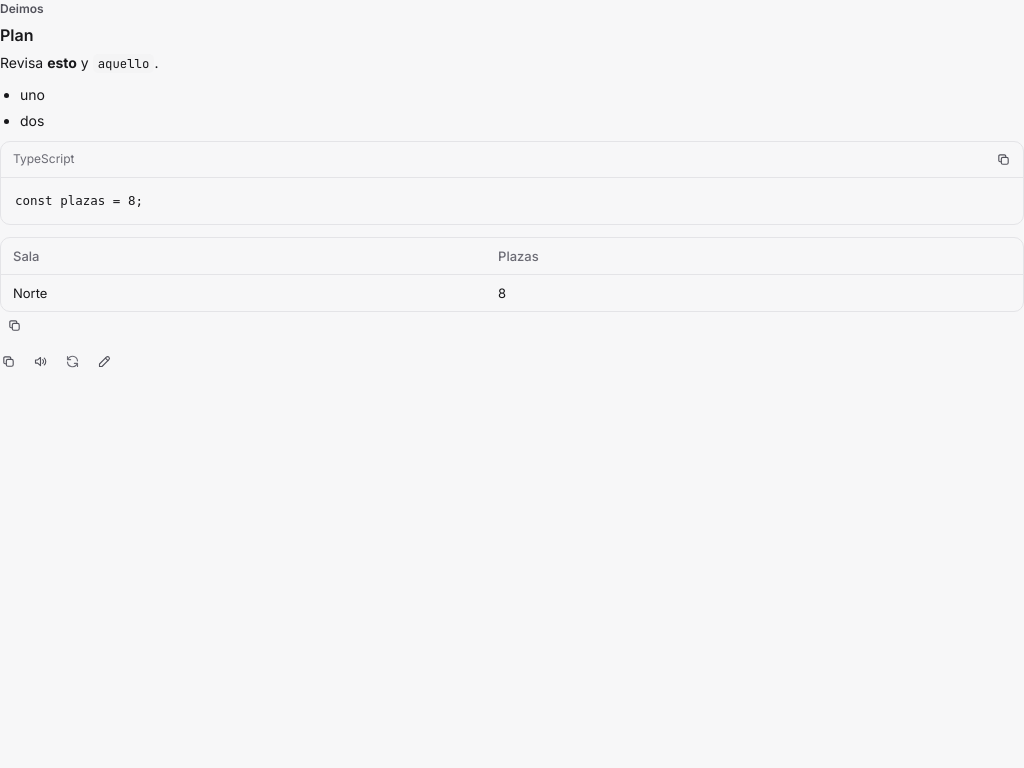
Test: the answer in the editor › is one editor holding its Markdown as it came, and copies what is written
Click the button named "Editar y copiar". click: (104, 362)
box: [90, 348, 118, 376]
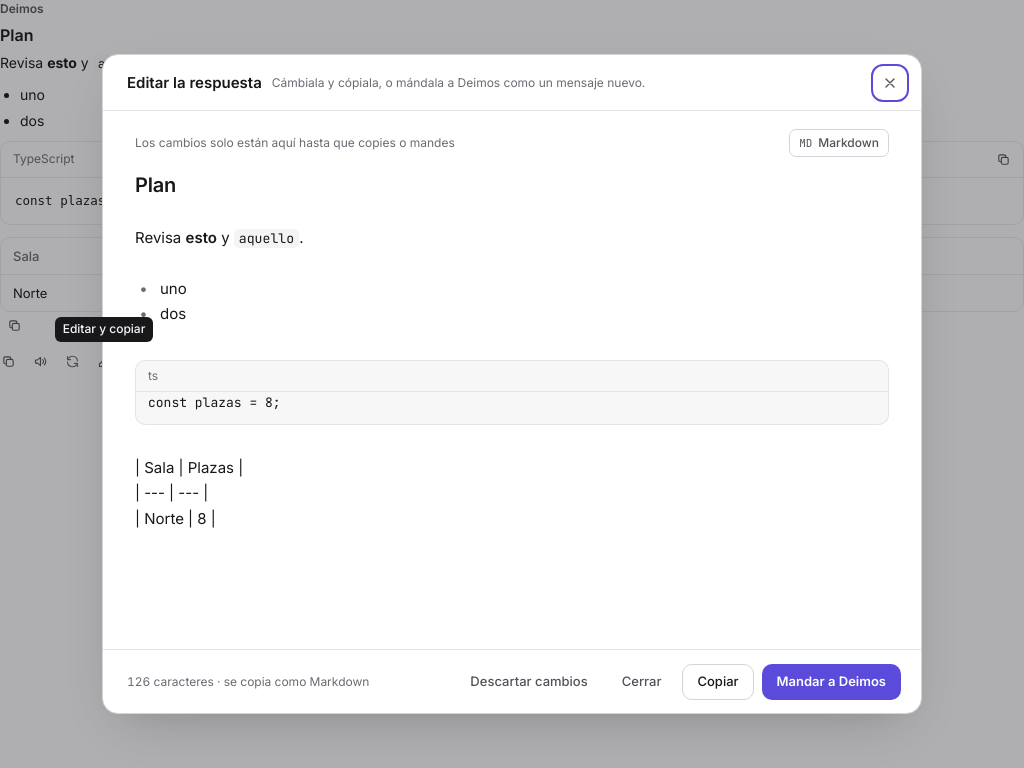
Check: the text "Los cambios solo están aquí hasta que copies o mandes" is shown, box [135, 135, 455, 150]
Click the button "Copiar". click: (718, 682)
box: [682, 664, 754, 700]
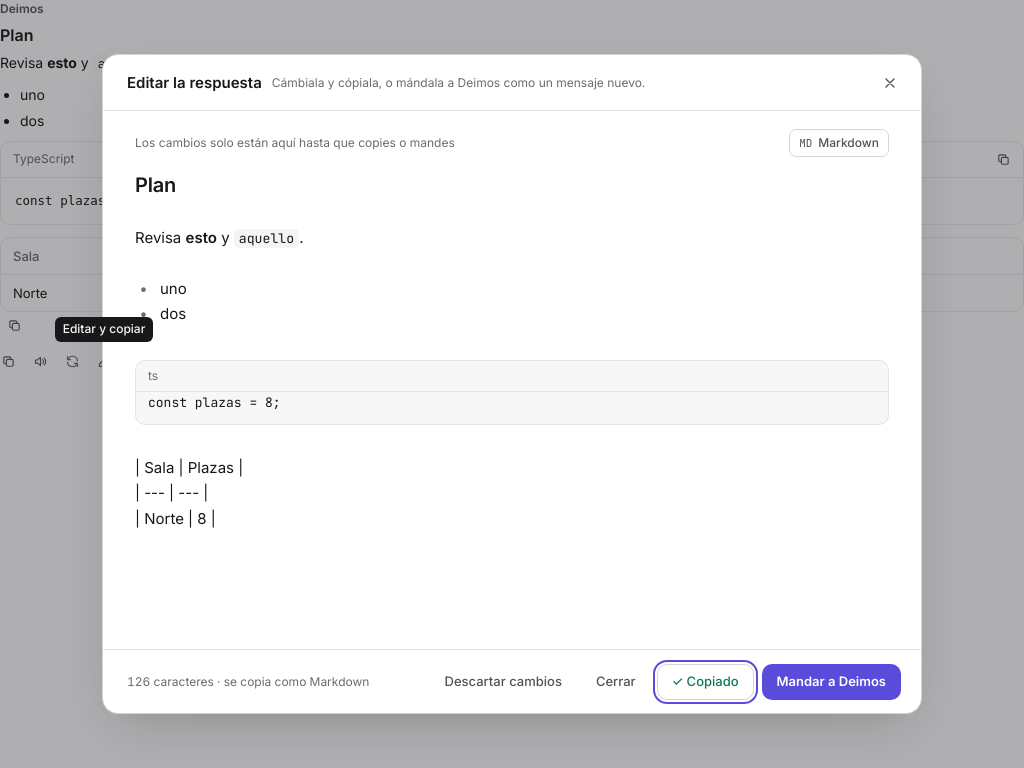
Check: the text "✓ Copiado" is shown, box [672, 672, 739, 691]
